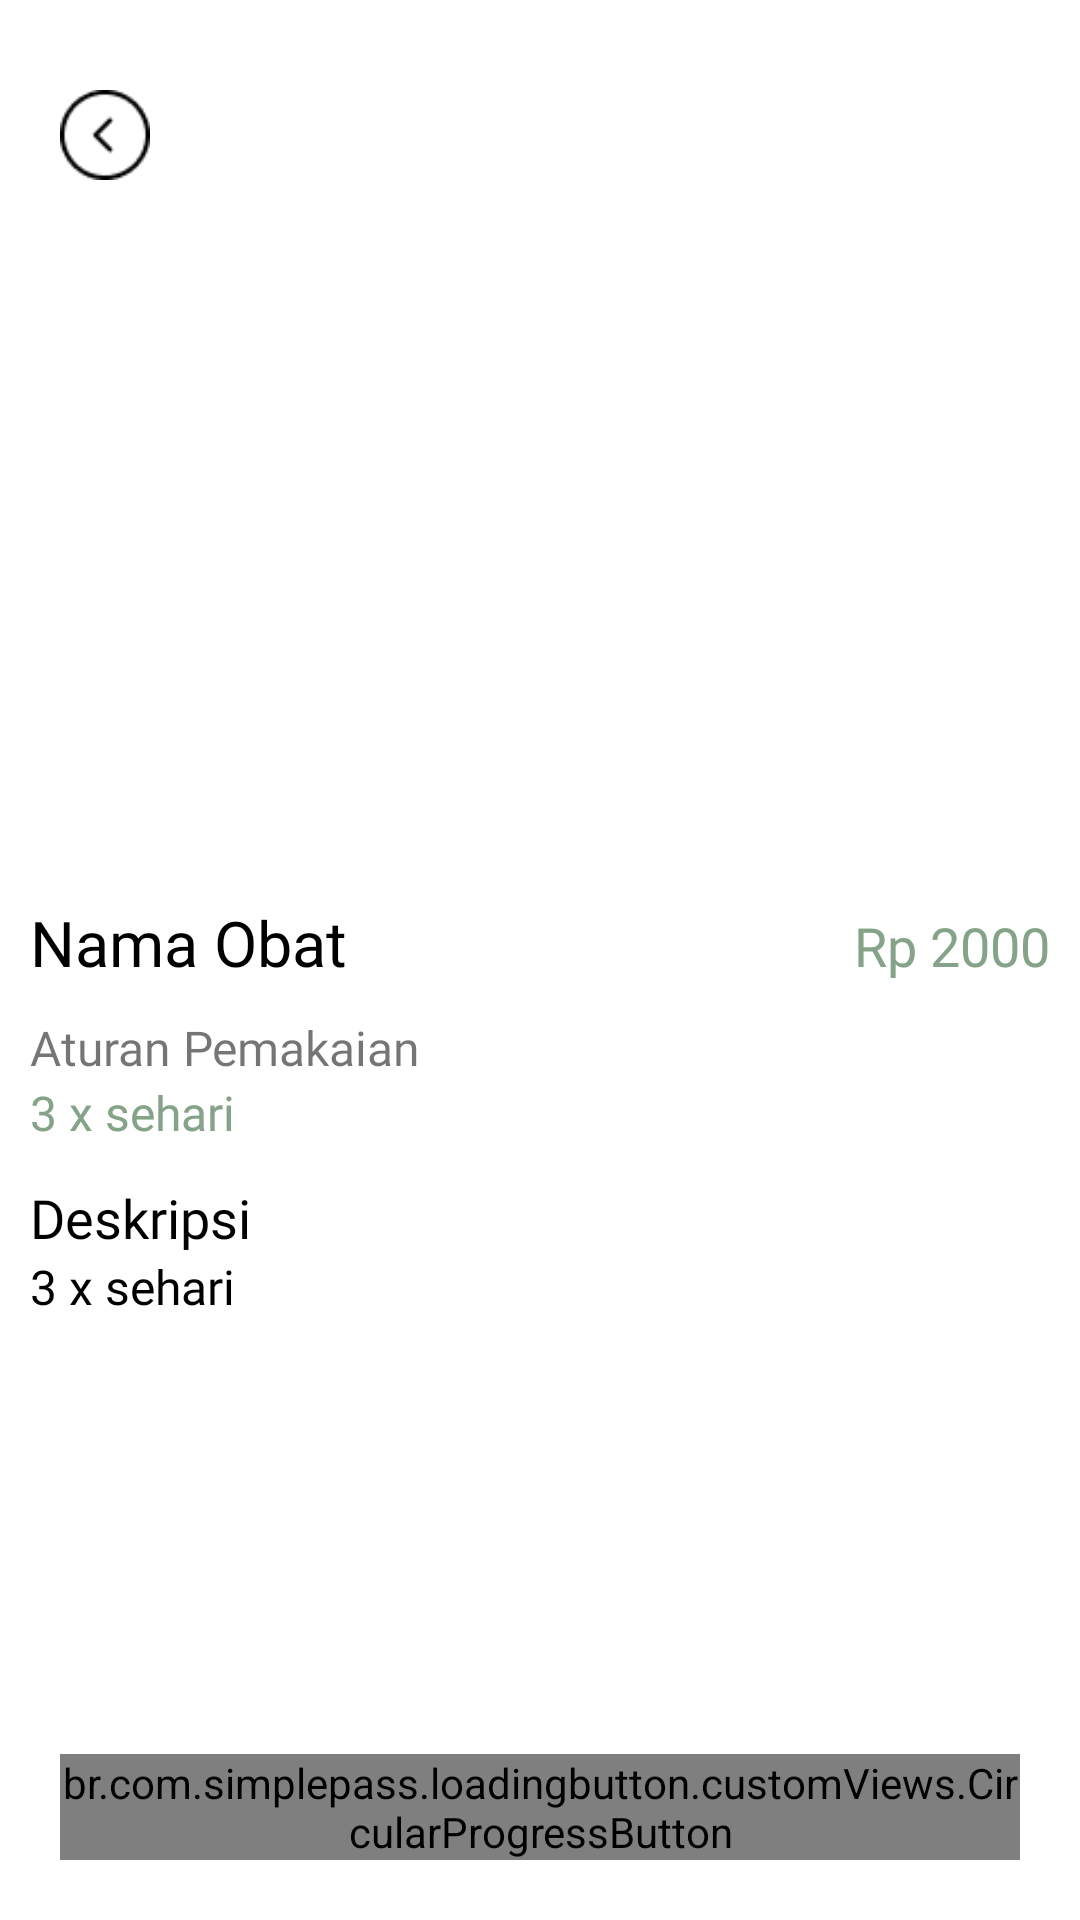

Named icons in this screenshot (1080×1920) and their bounding boxes, (x1, y1, x2, y2):
back: (60, 90, 150, 180)
